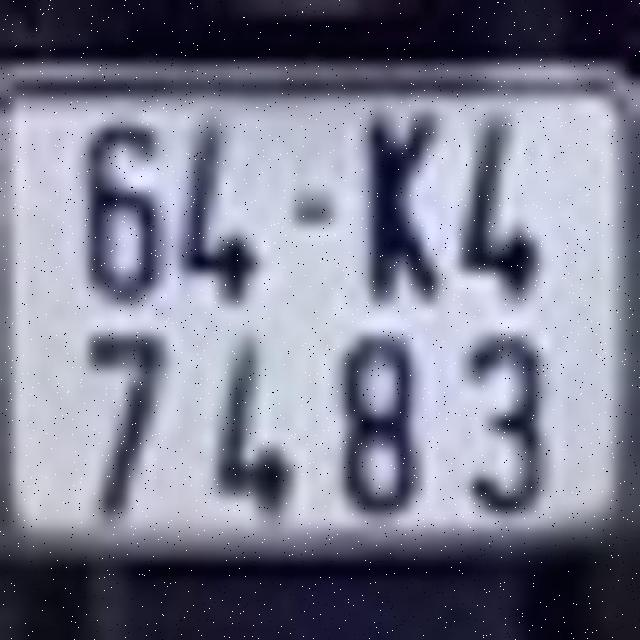3: (463, 326, 547, 517)
4: (460, 111, 540, 307), (214, 335, 294, 520), (181, 119, 258, 306)
6: (84, 120, 162, 303)
7: (84, 328, 166, 520)
8: (341, 330, 417, 516)
K: (365, 107, 441, 310)
